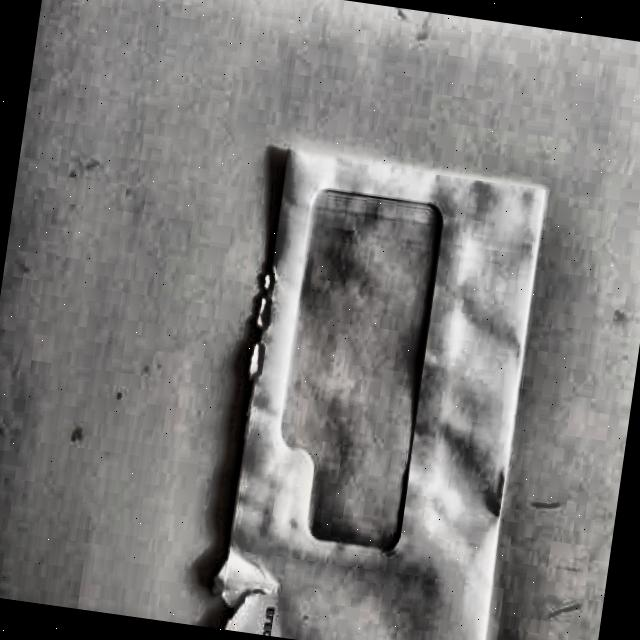paper: (200, 138, 555, 640)
